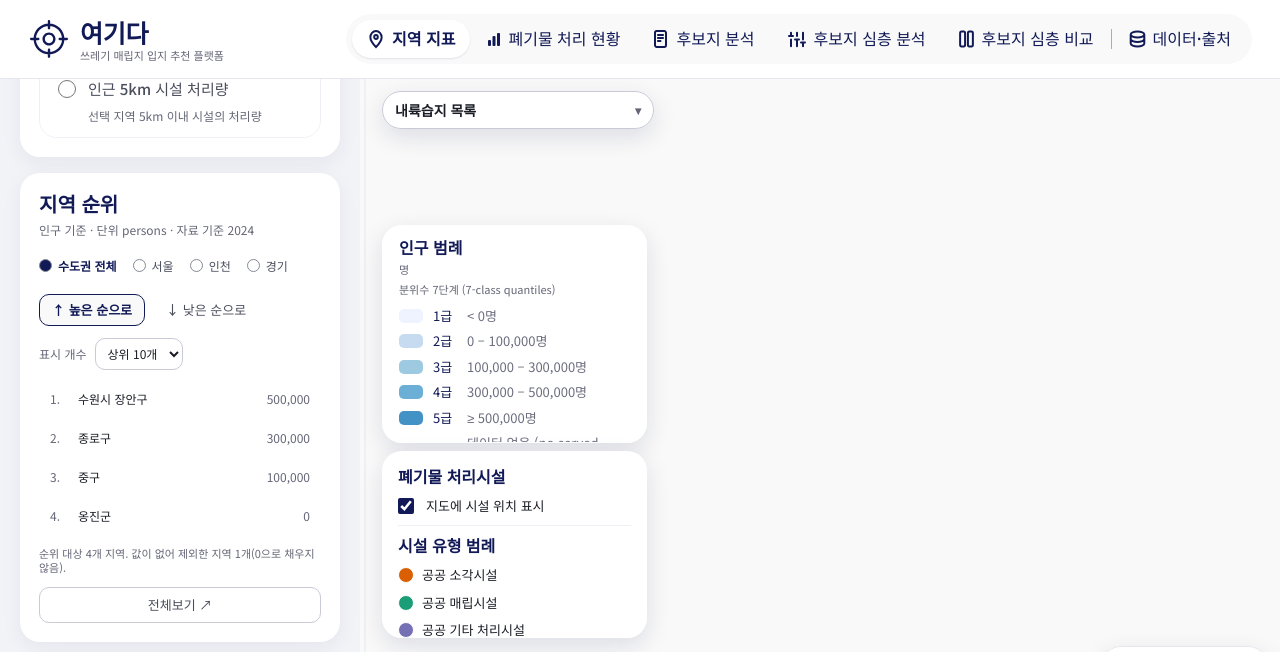
regional ranking › selecting a ranked region drives the shared selected-region summary (map sync)
(page scrolled)
Click the button with test id "rank-row" at x=113, y=398, box [39,382,321,416]
(page scrolled)
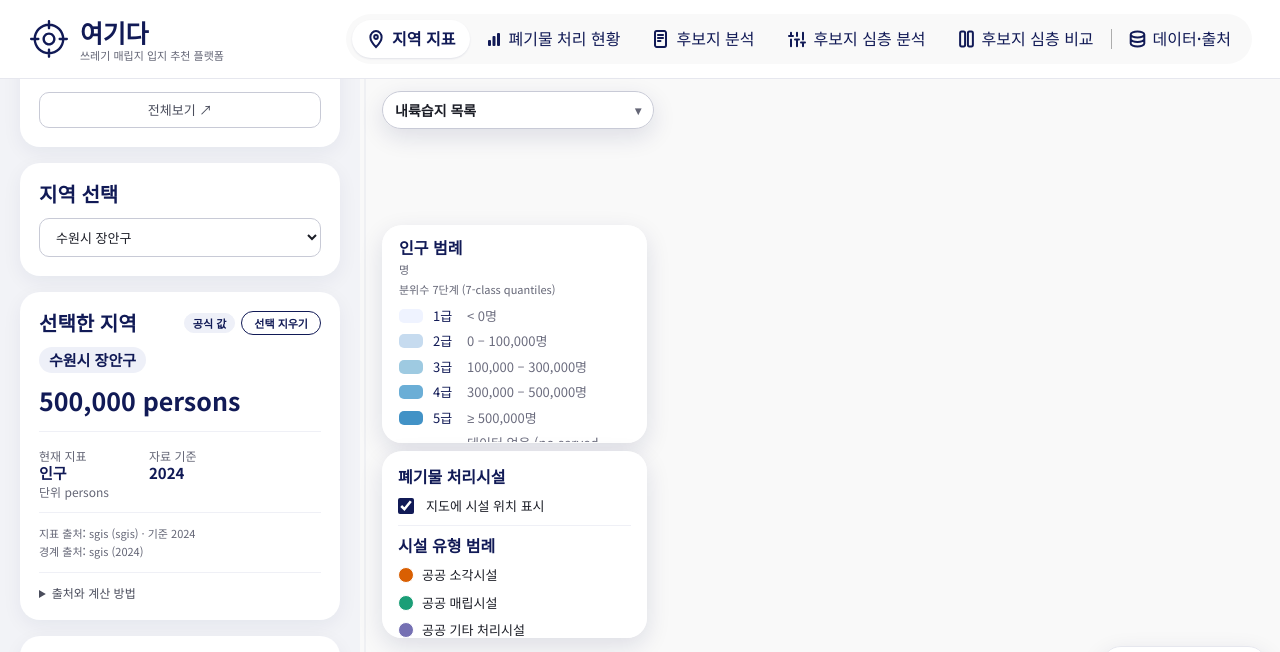
expect the element with test id "selected-region-name" reads "수원시 장안구": met, box [49,349,136,370]
expect the text with test id "selected-region-value" shows "500,000": met, box [39,382,240,418]
